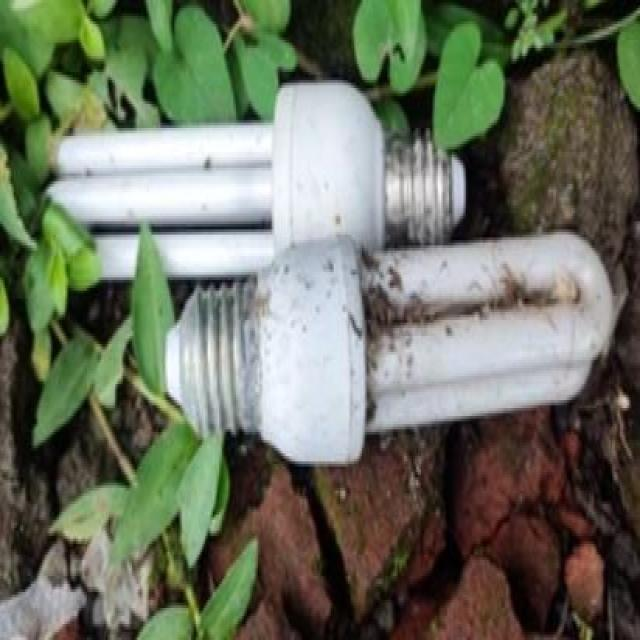electronic: (44, 74, 616, 467), (162, 226, 615, 466), (44, 75, 468, 282)
